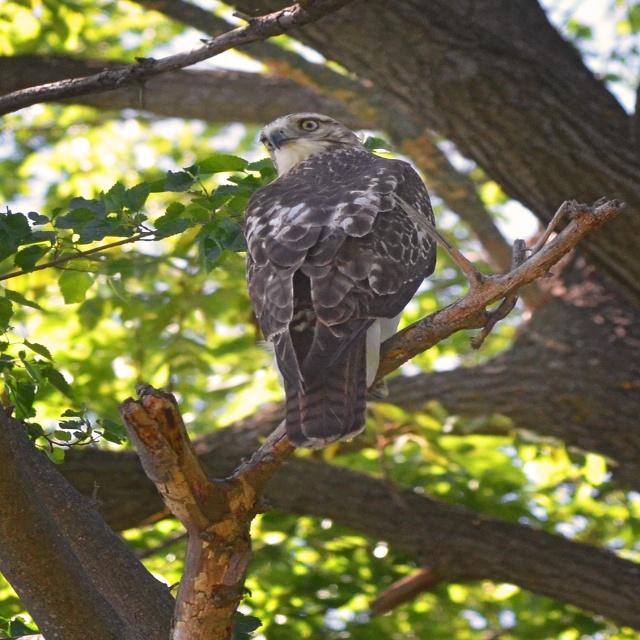Eagle: (237, 110, 440, 452)
